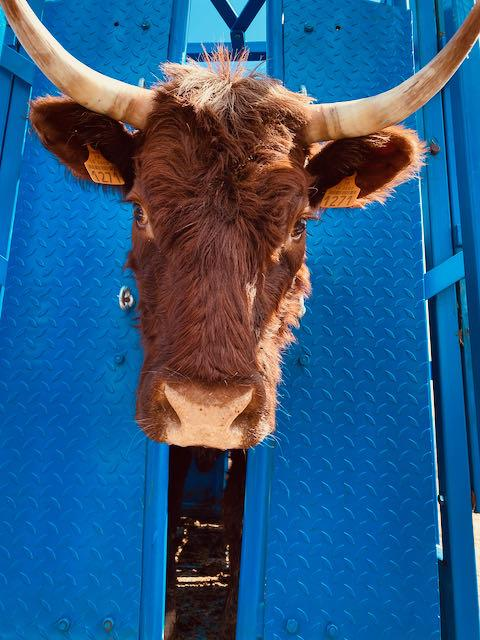muzzles: (125, 368, 281, 460)
